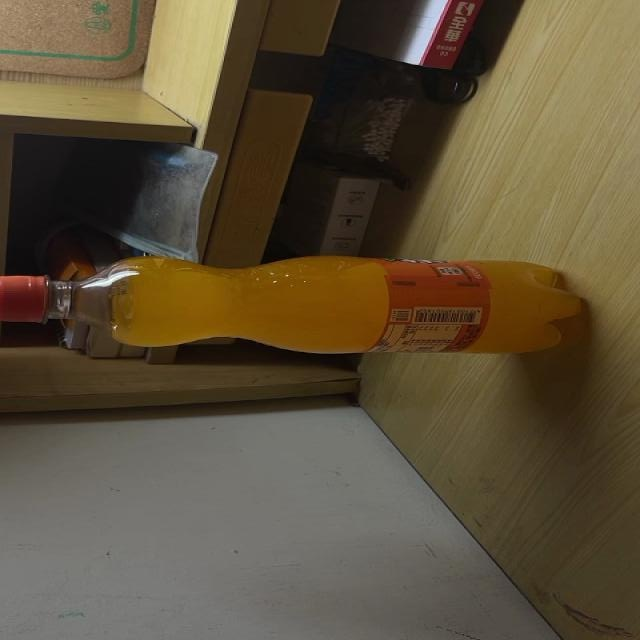Fanta: (0, 258, 585, 352)
